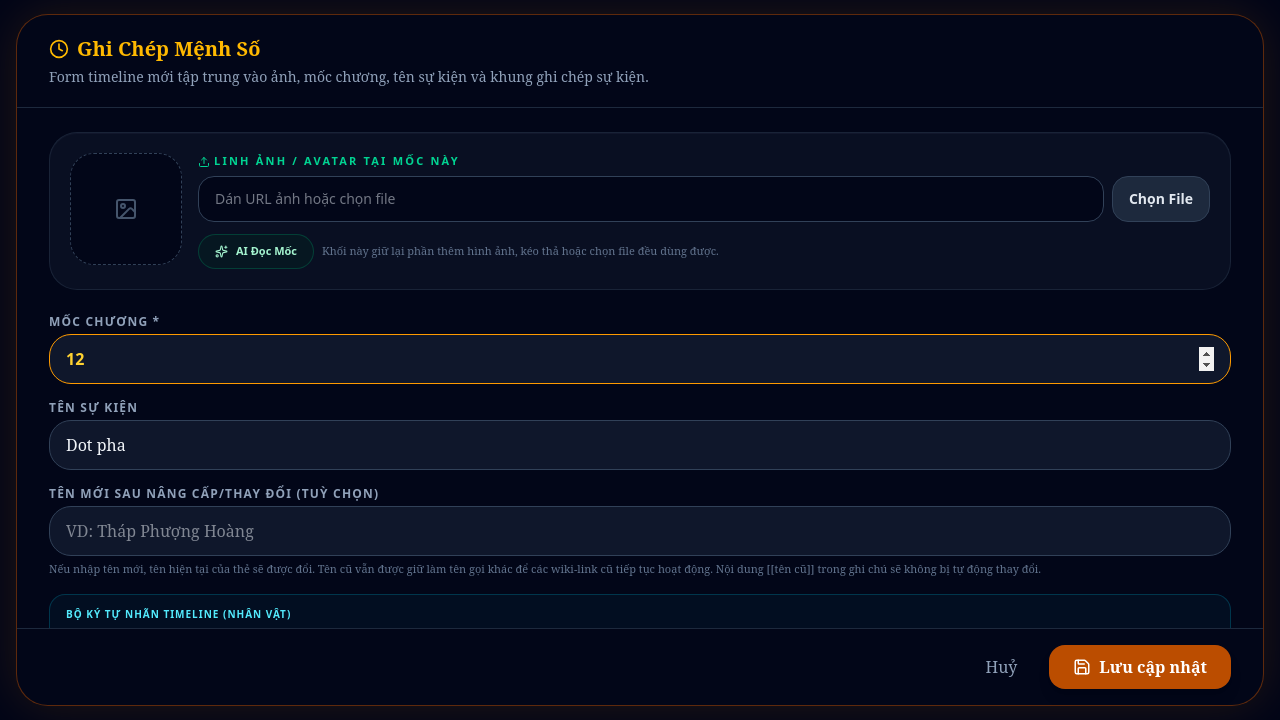
Test case: ModalMilestone save does not rewrap the event body › keeps plain entity names unwrapped after save
Click the button "Lưu cập nhật".
click(1140, 667)  # box [1049,645,1231,689]
(page scrolled)
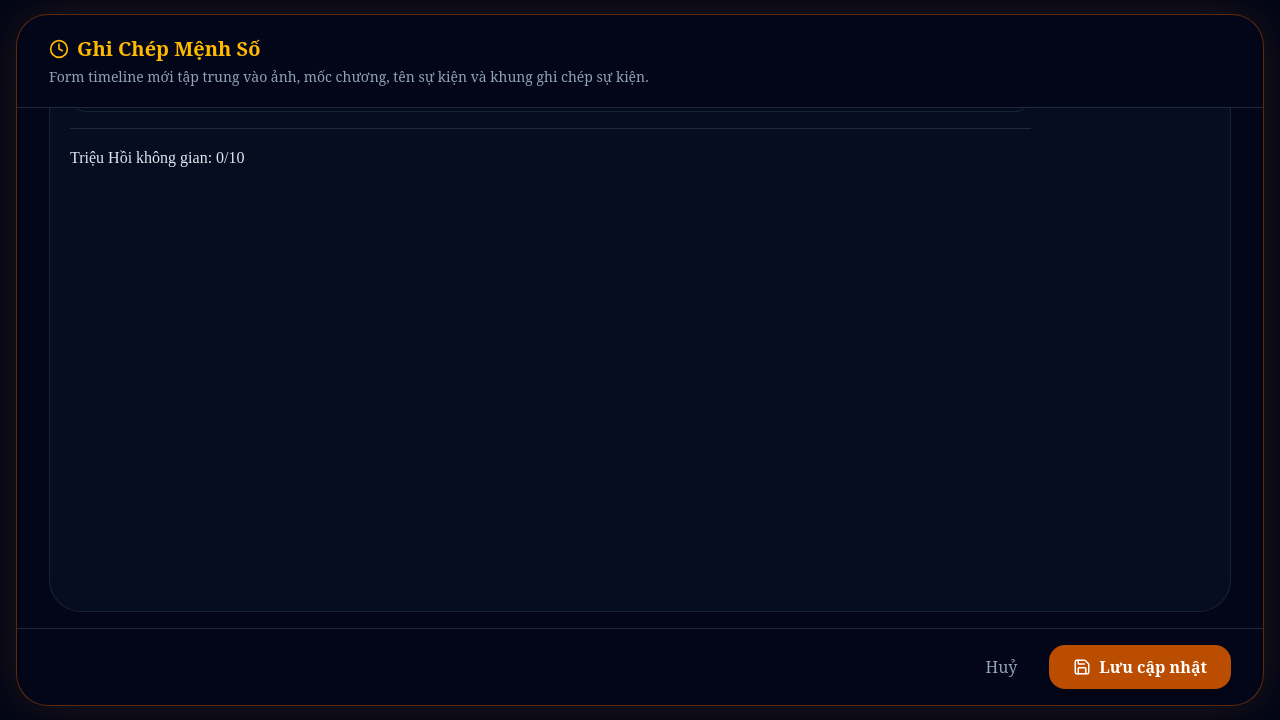
Check: the text "Triệu Hồi không gian: 0/10" is shown, box [70,149,244,166]
